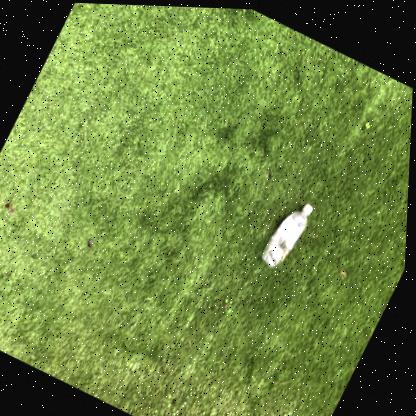Plastic: (263, 200, 313, 264)
